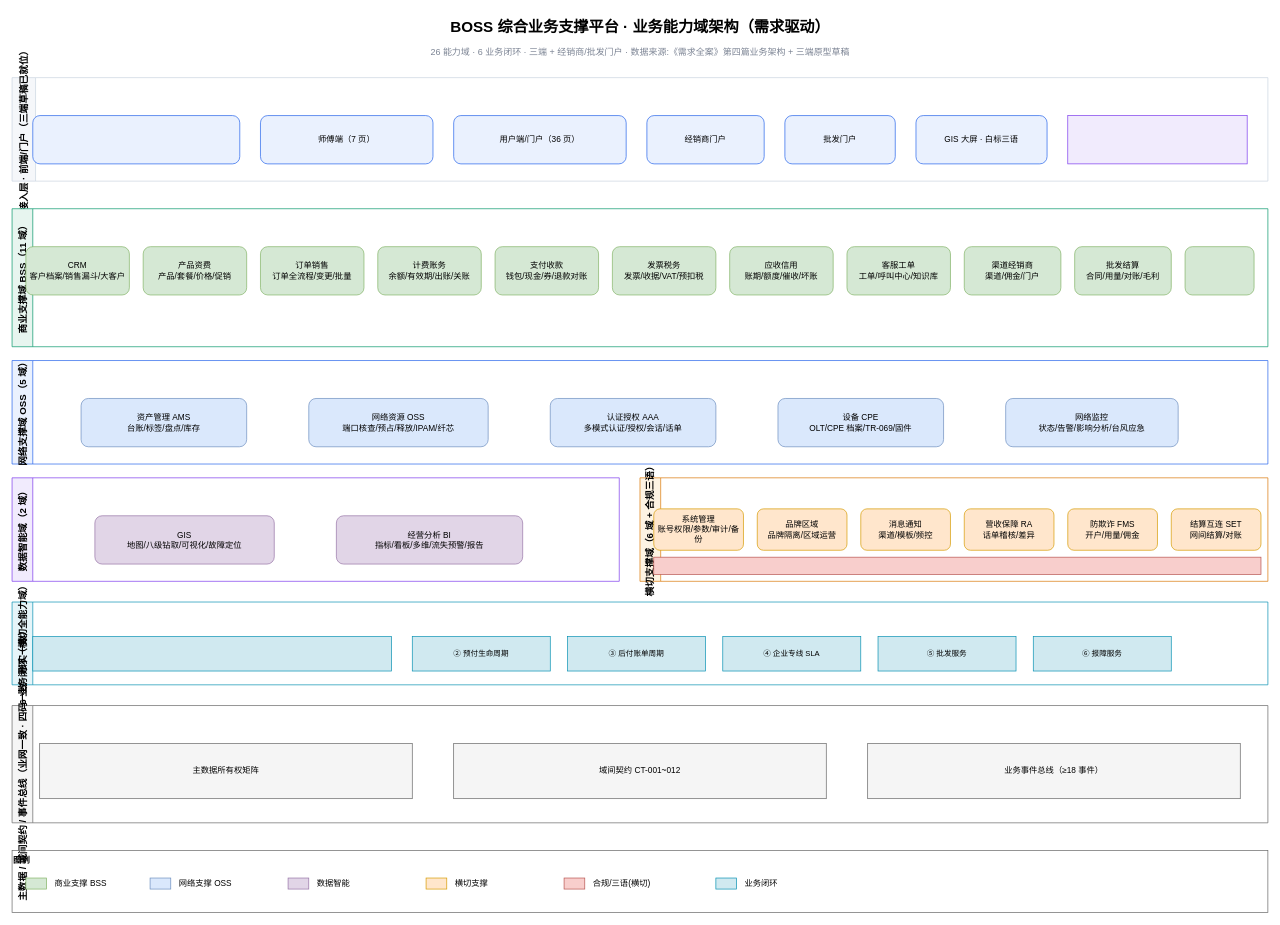
The diagram is 1280 pixels wide and 925 high, and some of its shapes have lost their labels. The shapes that lost their labels are listed below. From the top down, each one's centre as x and y in pixels, then its label:
At point 136,139: "管理端（46 页）".
At point 1157,139: "15 类角色 RBAC".
At point 1219,270: "忠诚度积分 积分/兑换/等级权益".
At point 957,565: "合规&三语(横切全域) DPA/AMLC/BIR/NTC/外资≤40% · 中英菲".
At point 212,653: "① 新装开通（12 环节）".
